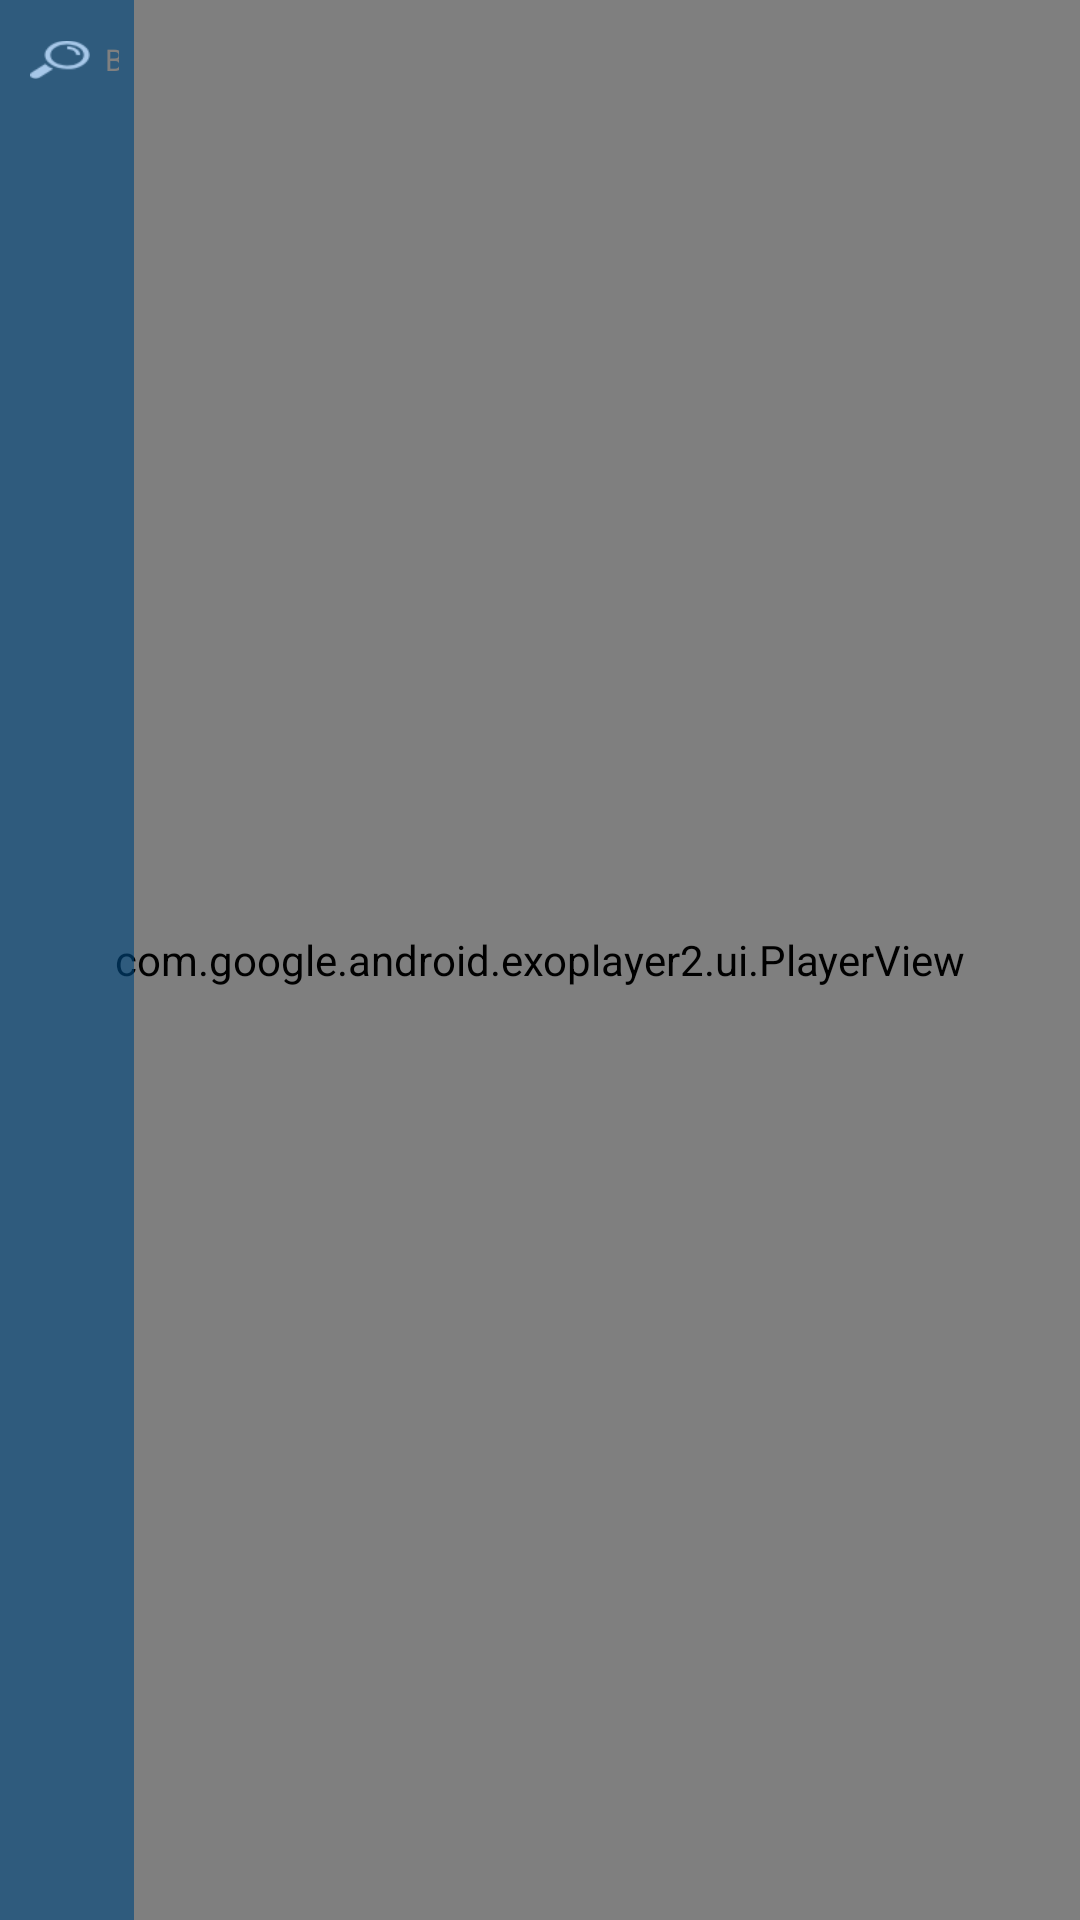

Icon bounding boxes for this 1080x1920 phone screenshot, format {"x1": x1, "y1": y1, "x2": x2, "y2": y2}:
search: {"x1": 30, "y1": 41, "x2": 90, "y2": 79}
